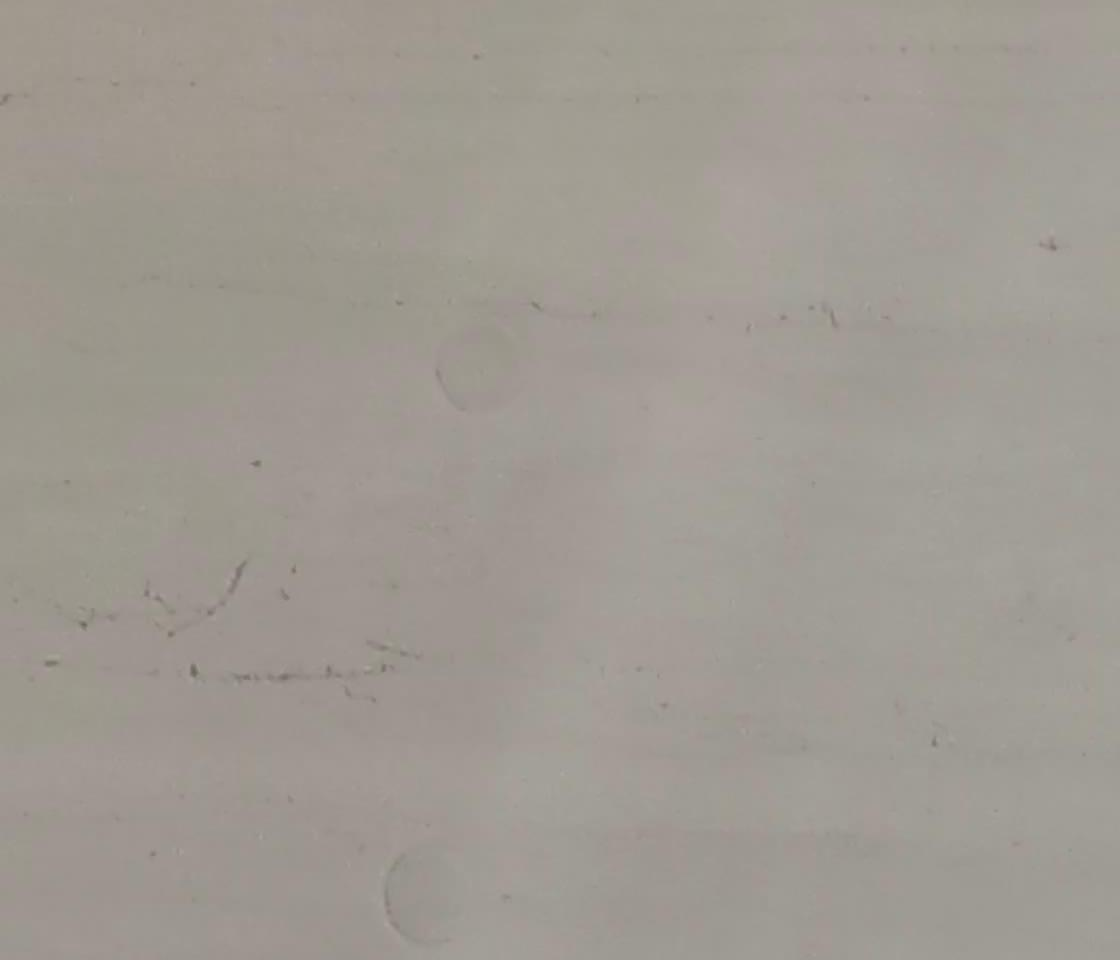scratch: (199, 557, 255, 625)
